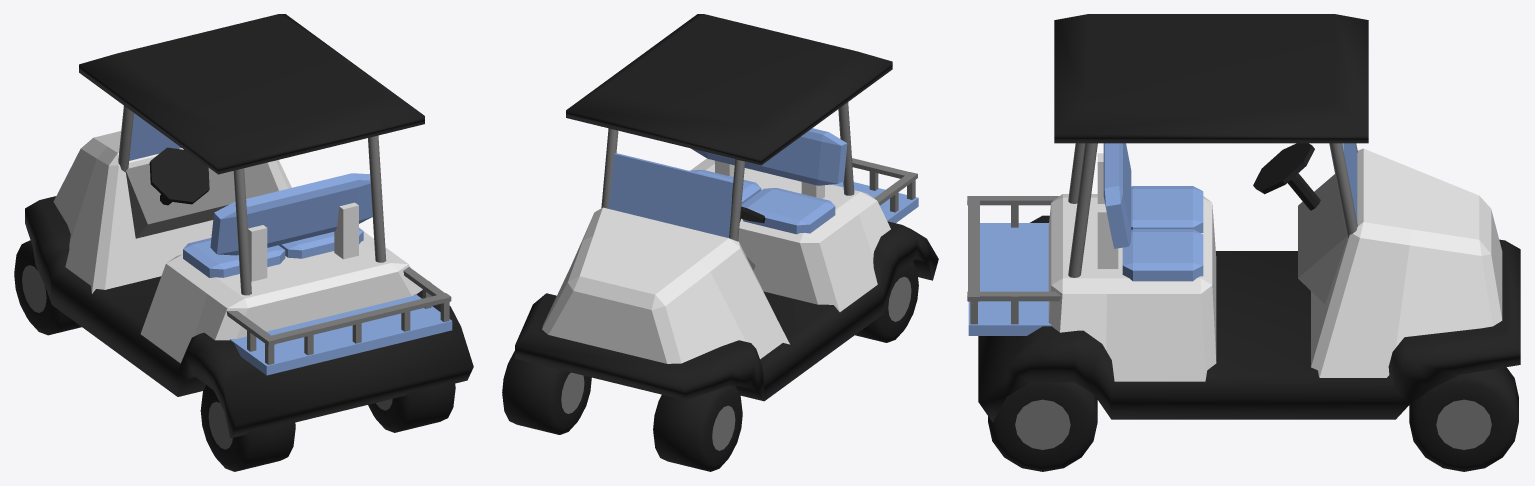
Rendered from GolfCart.fbx.
3 views of the same model, side by side, from view 1: azimuth 30°, elevation 25°; view 2: azimuth 150°, elevation 25°; view 3: azimuth 270°, elevation 25° (orthographic). The views are drawn at different scales.
Visible parts, largest first — view 1: Cube.016, Cube.007, Cube.008, Cube.012, Cube.011, Cube.017, Cube.028, Cylinder.004, Cylinder.003, Cylinder.009, Cylinder.002, Cube.009 (+10 smaller); view 2: Cube.016, Cube.012, Cube.007, Cube.008, Cube.015, Cylinder.002, Cylinder, Cube.011, Cube.009, Cylinder.004, Cube.017, Cylinder.006 (+5 smaller); view 3: Cube.016, Cube.007, Cube.012, Cube.008, Cylinder, Cylinder.003, Cube.017, Cube.028, Cube.010, Cube.009, Cube.011, Cylinder.009 (+8 smaller).
Boxes of the visible parts, <box> form: Cube.016: <box>79,14,424,174</box>; Cube.007: <box>25,196,473,438</box>; Cube.008: <box>140,231,422,363</box>; Cube.012: <box>53,131,291,293</box>; Cube.011: <box>210,173,372,255</box>; Cube.017: <box>229,294,452,375</box>; Cube.028: <box>126,162,278,238</box>; Cylinder.004: <box>200,385,295,471</box>; Cylinder.003: <box>368,382,455,432</box>; Cylinder.009: <box>149,147,209,205</box>; Cylinder.002: <box>14,240,81,335</box>; Cube.009: <box>183,238,285,277</box>; Cube.016: <box>566,14,892,165</box>; Cube.012: <box>542,207,789,363</box>; Cube.007: <box>515,221,938,401</box>; Cube.008: <box>690,159,890,311</box>; Cube.015: <box>608,153,733,237</box>; Cylinder.002: <box>653,385,742,471</box>; Cylinder: <box>502,351,591,434</box>; Cube.011: <box>691,128,847,185</box>; Cube.009: <box>741,188,835,234</box>; Cylinder.004: <box>855,261,918,342</box>; Cube.017: <box>832,182,918,223</box>; Cylinder.006: <box>729,159,745,241</box>; Cube.016: <box>1054,14,1368,143</box>; Cube.007: <box>978,215,1520,422</box>; Cube.012: <box>1311,148,1502,377</box>; Cube.008: <box>1048,194,1216,381</box>; Cylinder: <box>1409,367,1518,471</box>; Cylinder.003: <box>988,382,1097,471</box>; Cube.017: <box>968,223,1051,335</box>; Cube.028: <box>1298,174,1347,304</box>; Cube.010: <box>1122,229,1203,281</box>; Cube.009: <box>1131,186,1203,232</box>; Cube.011: <box>1103,143,1131,248</box>; Cylinder.009: <box>1253,143,1320,210</box>.
Size of the model in its own units: 62.14 by 78.92 by 111.
